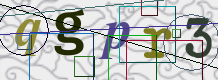3: (184, 17, 212, 59)
g: (53, 8, 86, 57)
p: (98, 21, 131, 61)
q: (14, 17, 42, 58)
r: (141, 25, 173, 60)
